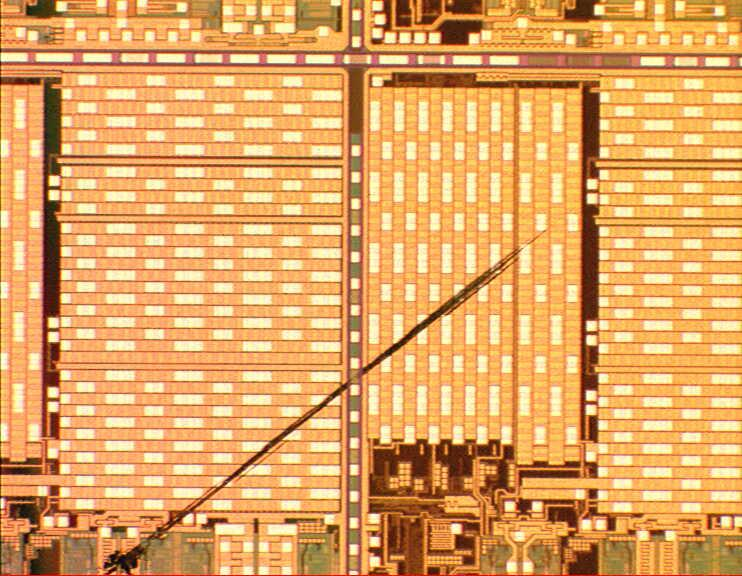SCRATCH: (105, 194, 593, 576)
